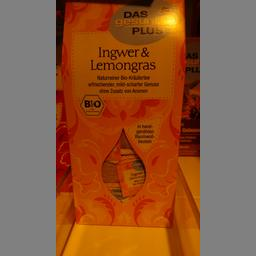tea: (58, 0, 185, 227)
